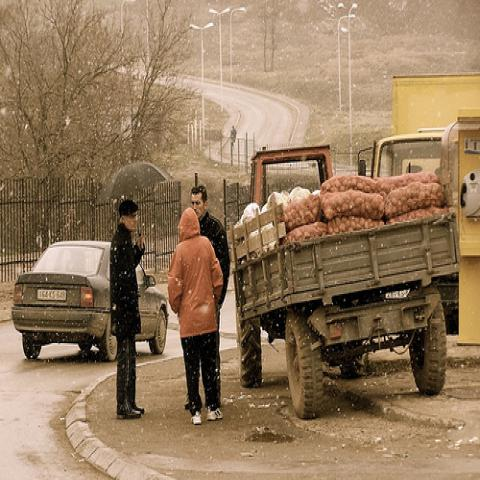car: (14, 241, 170, 362)
motorcycle: (230, 133, 235, 144)
truck: (230, 141, 460, 421), (355, 70, 479, 354)
